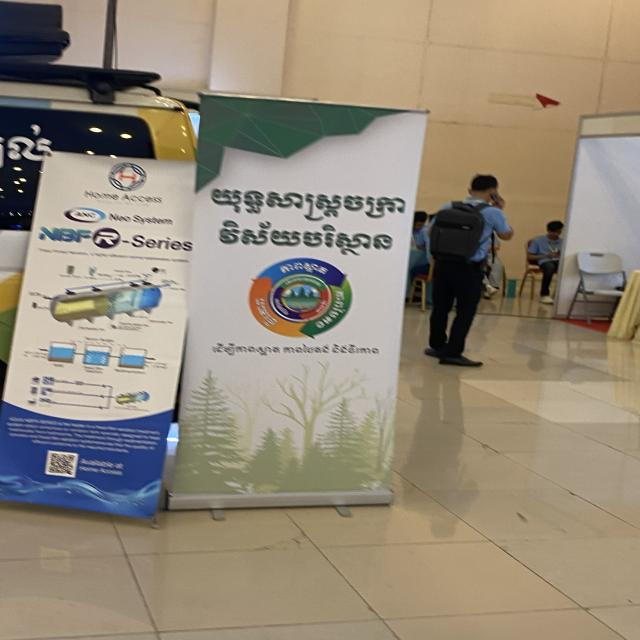Yolov11_80vkh: (214, 217, 412, 258), (210, 184, 410, 224)
